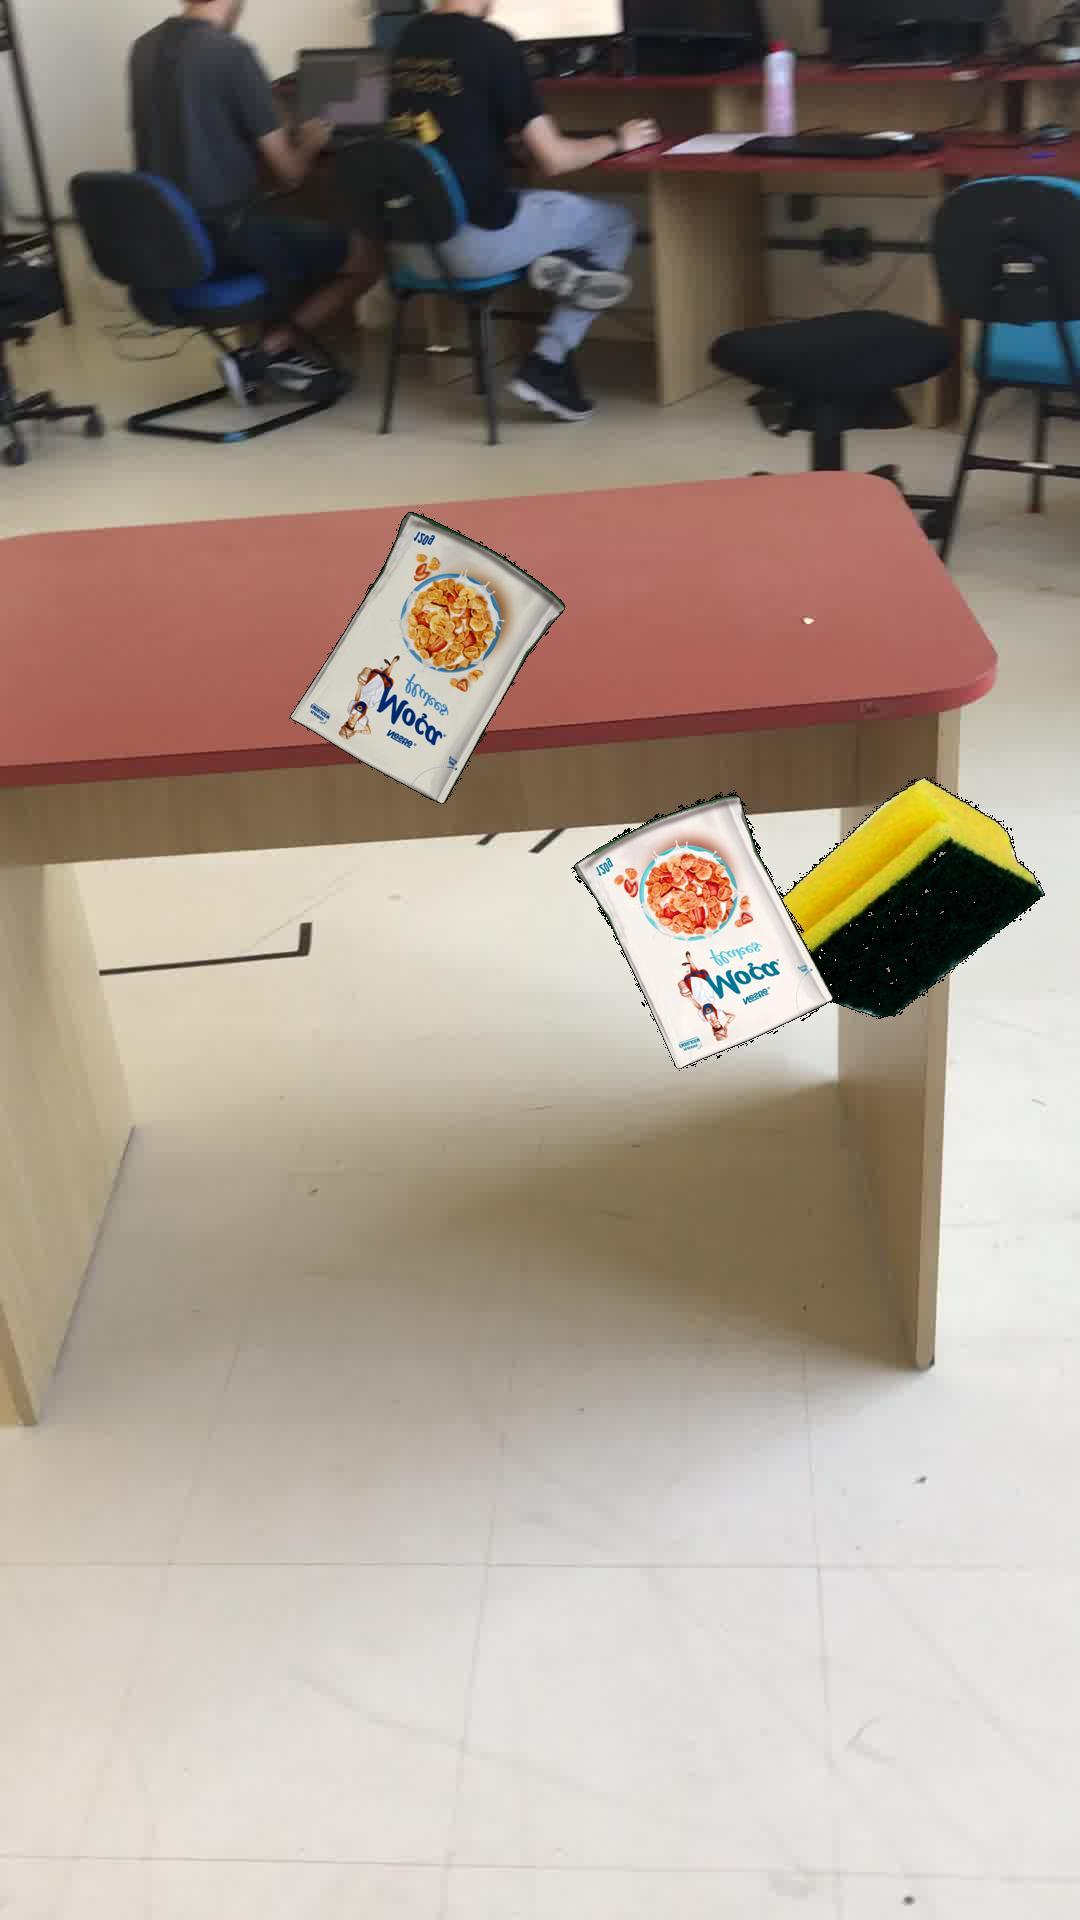corn flakes: (289, 510, 564, 803), (571, 790, 832, 1068)
sponge: (781, 775, 1043, 1018)
